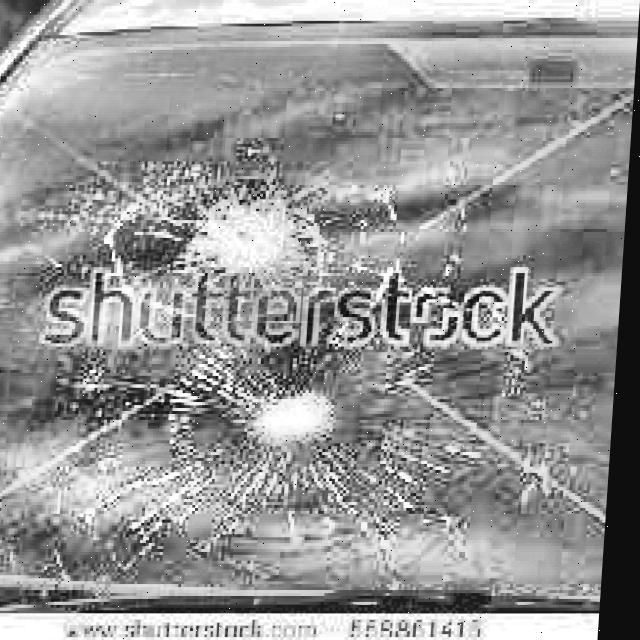glass_shatter: (167, 184, 334, 300), (210, 376, 359, 456)
